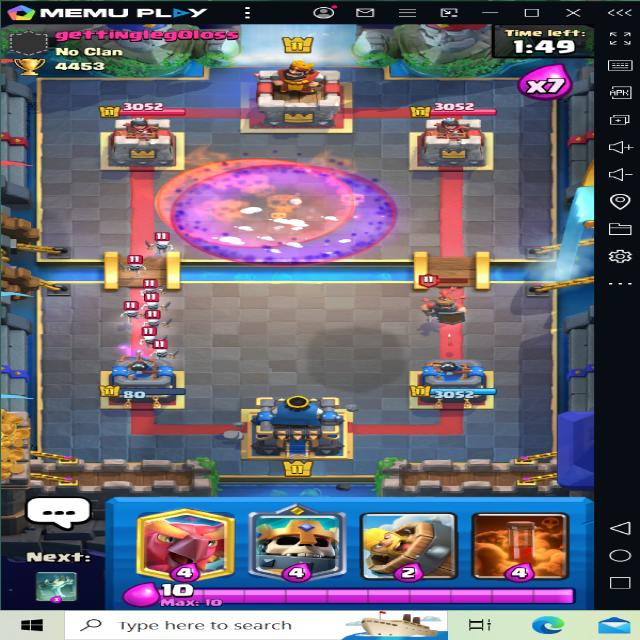graveyard: (172, 163, 399, 268)
poison: (162, 158, 360, 242)
royal-recruits: (421, 272, 480, 326)
skeleton: (149, 338, 182, 365), (138, 291, 176, 310), (120, 256, 151, 278), (133, 330, 162, 350), (119, 299, 142, 318), (151, 235, 178, 251), (140, 316, 167, 332), (141, 282, 167, 298)
